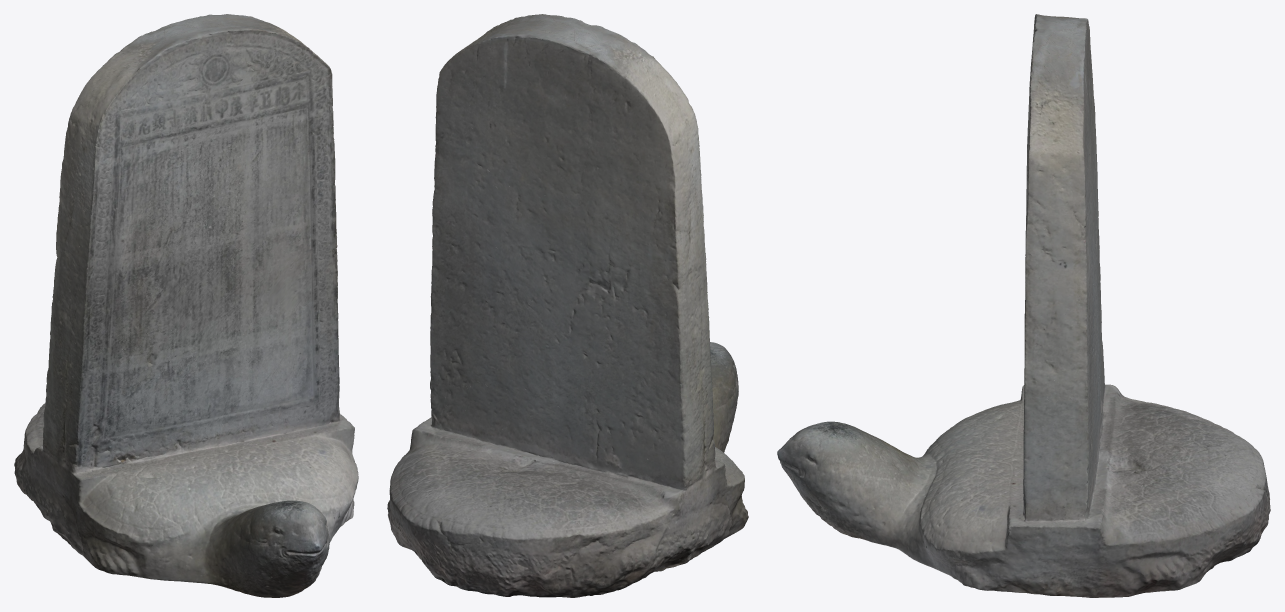
File: bia-1680.glb
3 renders of one model, left to right at view 1: azimuth 30°, elevation 25°; view 2: azimuth 150°, elevation 25°; view 3: azimuth 270°, elevation 25°, orthographic. The views are drawn at different scales.
Visible parts, largest first — view 1: 16-1680; view 2: 16-1680; view 3: 16-1680.
Part boxes in pixels (x1,y1,x2,y2): 16-1680: (14,14,358,597); 16-1680: (387,14,748,597); 16-1680: (777,14,1270,597).
Bounding box in the file's own units: 0.5976 × 1 × 0.8931.
1 material, 1 textured.
